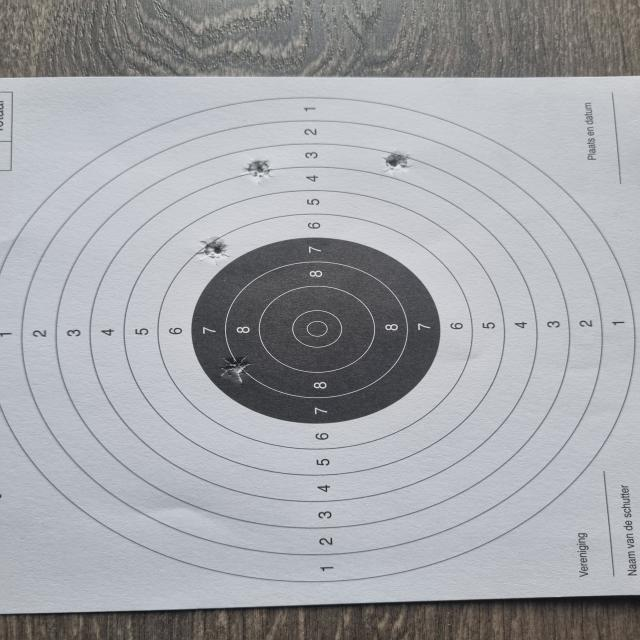3: (383, 152, 412, 172)
4: (245, 159, 274, 178)
6: (196, 240, 229, 259)
8: (222, 359, 252, 383)
Target: (0, 84, 640, 594)
black_contour: (191, 238, 440, 424)
